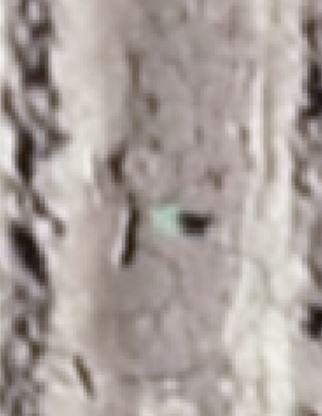cotton: (156, 208, 181, 230)
